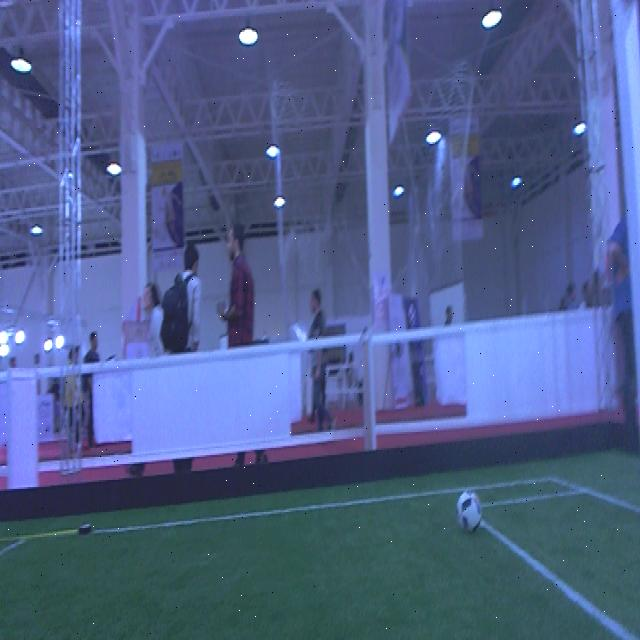ball: (457, 487, 483, 533)
